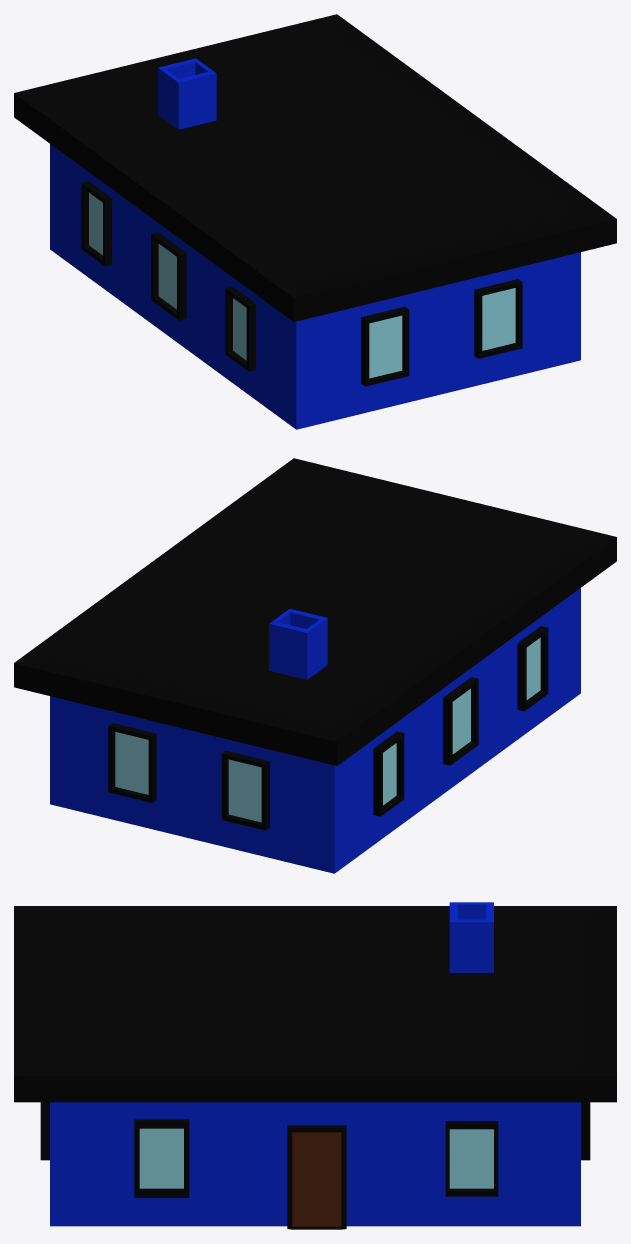
File: Houses01.fbx
3 views of the same model, one above another, from view 1: azimuth 30°, elevation 25°; view 2: azimuth 150°, elevation 25°; view 3: azimuth 270°, elevation 25° (orthographic). The views are drawn at different scales.
Visible parts, largest first — view 1: Plane; view 2: Plane; view 3: Plane.
Part boxes in pixels (box(x1,y1,x2,y2)): Plane: box(14, 14, 616, 429); Plane: box(14, 458, 616, 873); Plane: box(14, 902, 616, 1229).
Bounding box in the file's own units: 400 × 232 × 600.
